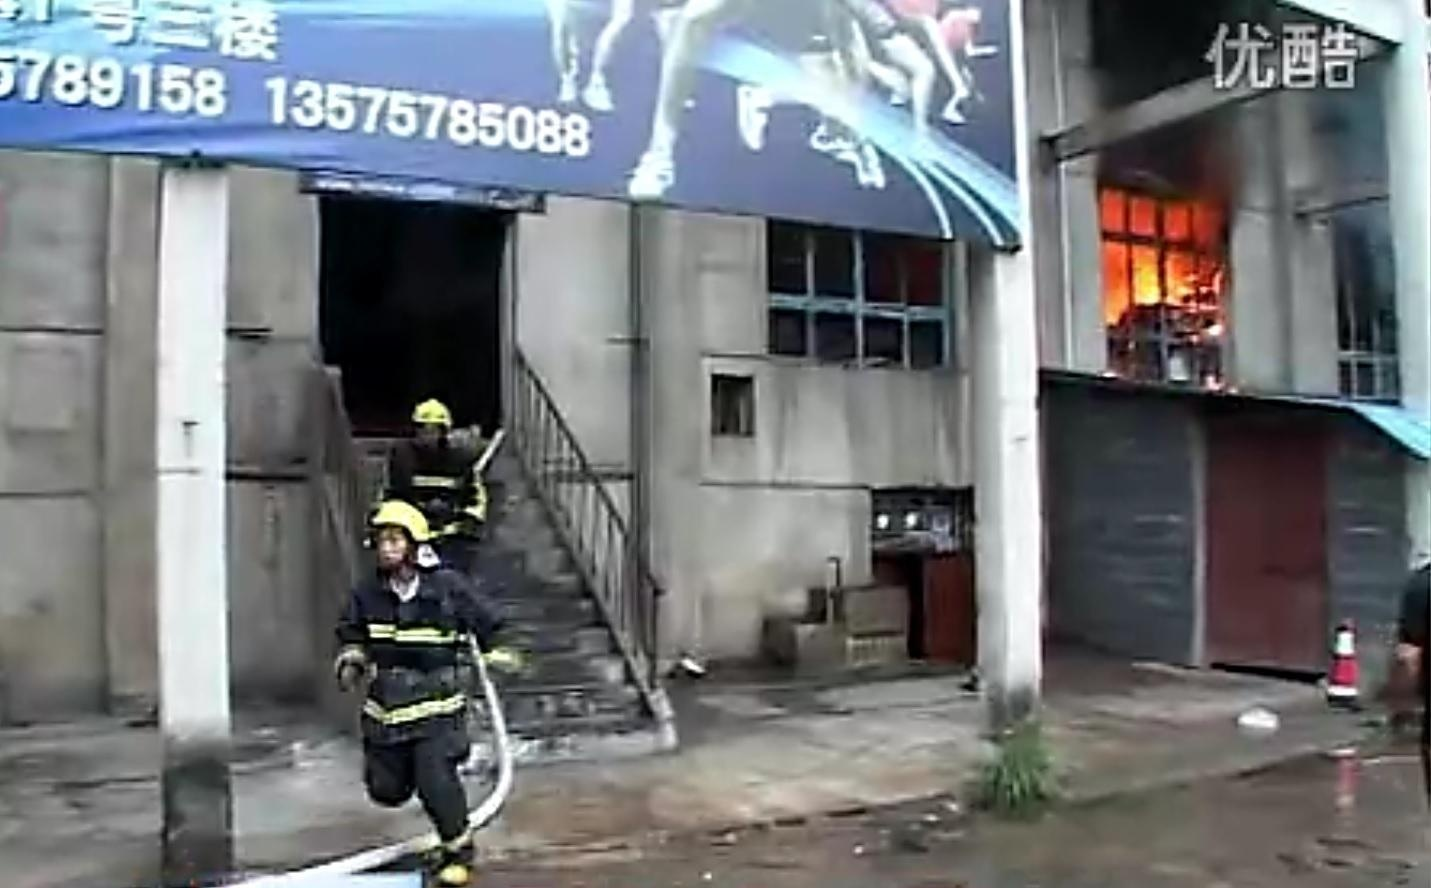fire: (1098, 190, 1221, 317)
